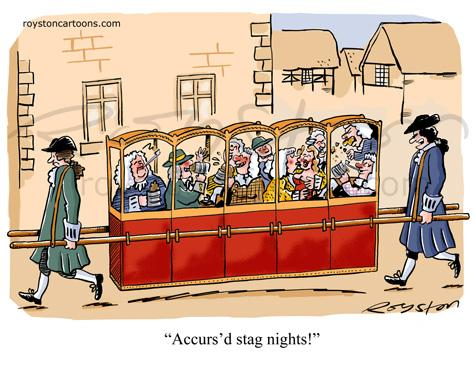person: (393, 112, 463, 293), (34, 129, 97, 316), (275, 142, 334, 210), (114, 145, 172, 210), (160, 135, 210, 205), (224, 146, 270, 203)
